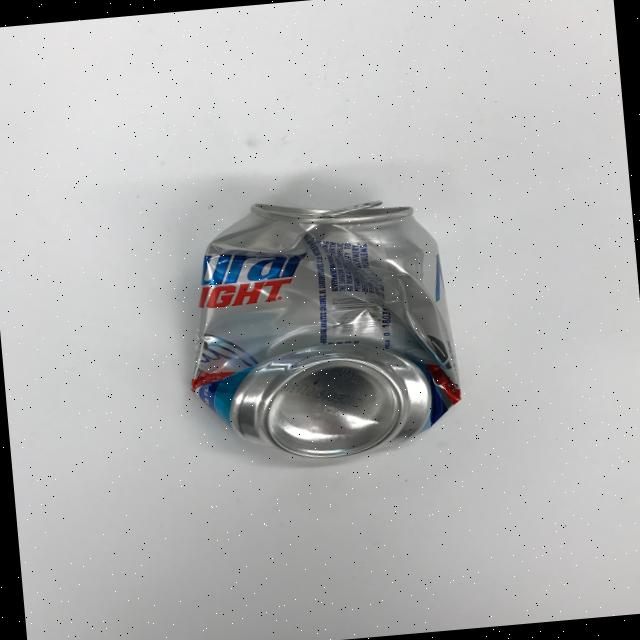metal: (174, 185, 466, 470)
